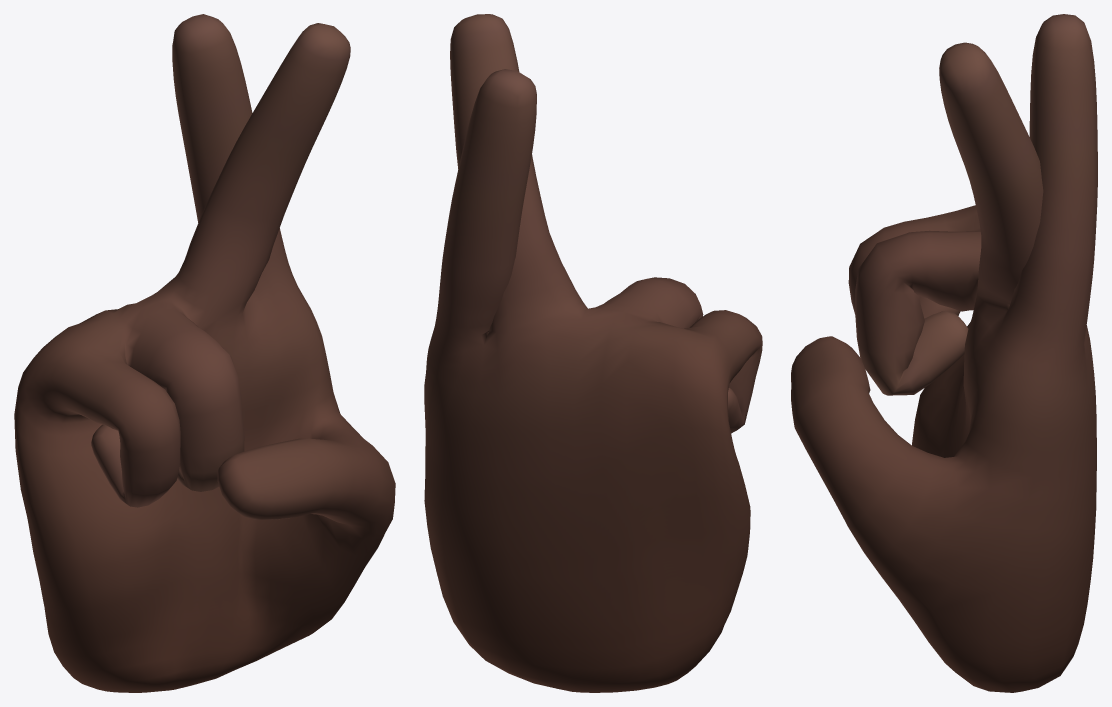
Rendered from crossed_fingers.glb.
The picture shows the model from 3 angles, left to right: view 1: azimuth 30°, elevation 25°; view 2: azimuth 150°, elevation 25°; view 3: azimuth 270°, elevation 25°; orthographic projection. The views are drawn at different scales.
Visible parts, largest first — view 1: hand.025; view 2: hand.025; view 3: hand.025.
Part boxes in pixels (x1,y1,x2,y2): hand.025: [14, 14, 395, 692]; hand.025: [424, 14, 762, 692]; hand.025: [791, 14, 1097, 692].
Size of the model in its own units: 1.04 by 1.96 by 0.8132.
Materials: 2 (2 with a texture image).
